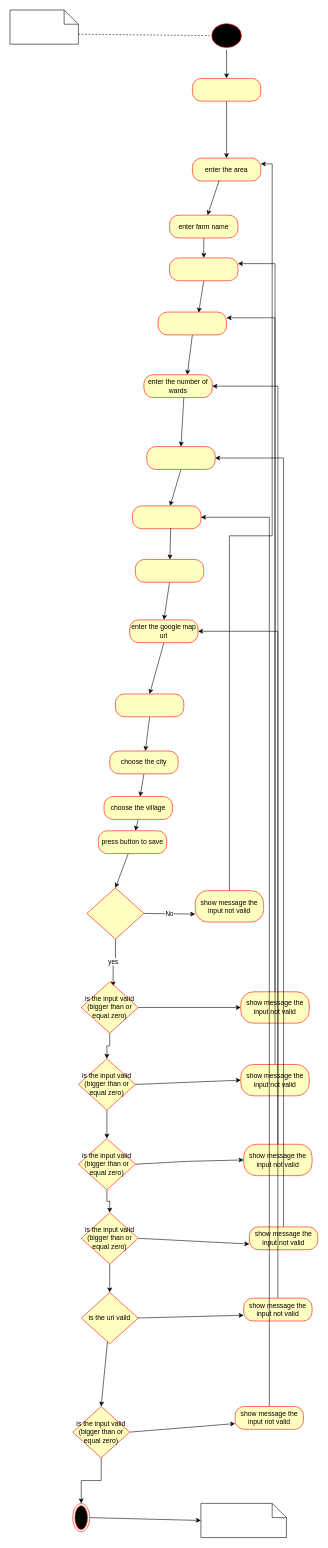
Some shapes in this 328 by 1548 pixel diagram are drawn without their labels. The shapes that lost their labels are listed below. From the top down, each one's centre as x and y in pixels, then its label:
point (43, 26): login
point (226, 89): enter tax record
point (203, 269): enter the number of playground
point (192, 323): enter the huge of playground
point (180, 457): enter the number of asoulated wards
point (166, 517): enter the attached area
point (169, 570): choose the sector type
point (149, 705): choose the gavernorate
point (115, 913): is the area valid (bigger than or equal zero)
point (243, 1520): connect farm to farmer
